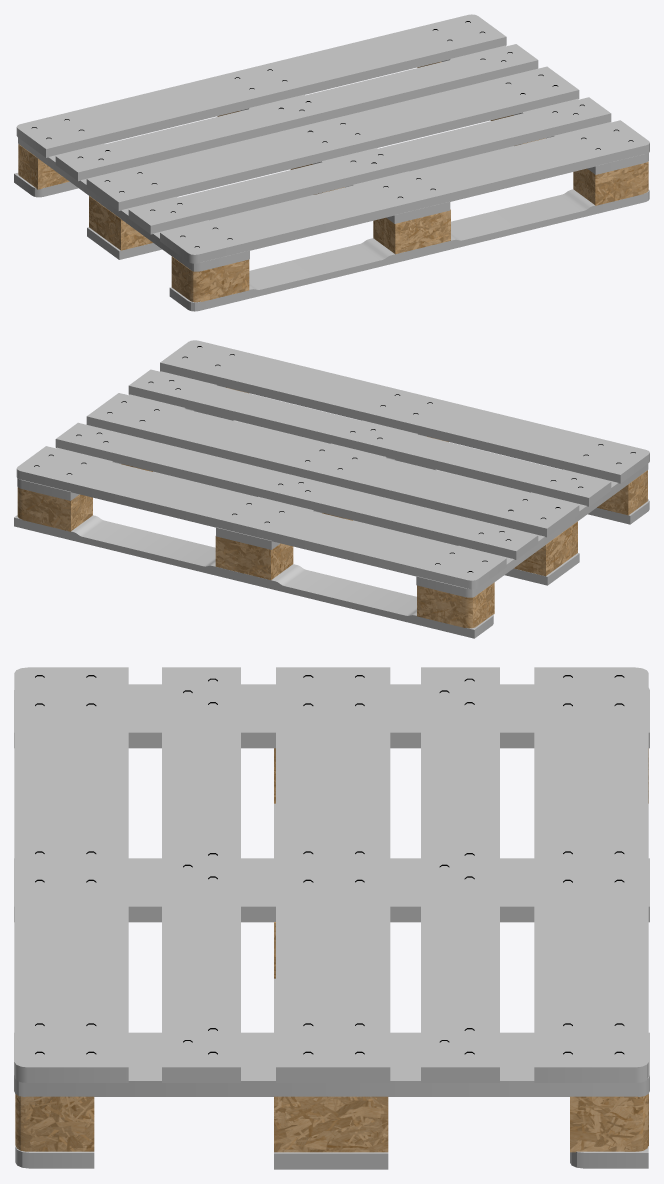
3 views of the same model, one above another, from view 1: azimuth 30°, elevation 25°; view 2: azimuth 150°, elevation 25°; view 3: azimuth 270°, elevation 25° (orthographic). The views are drawn at different scales.
Visible parts, largest first — view 1: Euro-Palet-1; view 2: Euro-Palet-1; view 3: Euro-Palet-1.
Part boxes in pixels (bbox=[...]): Euro-Palet-1: bbox=[14, 14, 649, 311]; Euro-Palet-1: bbox=[14, 340, 649, 638]; Euro-Palet-1: bbox=[14, 667, 649, 1169].
Bounding box in the file's own units: 1.2 × 0.1475 × 0.8065.
